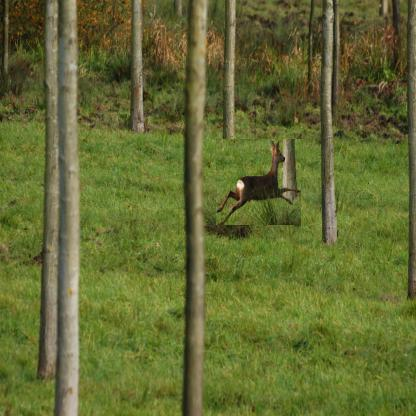Deer: (216, 139, 301, 225)
